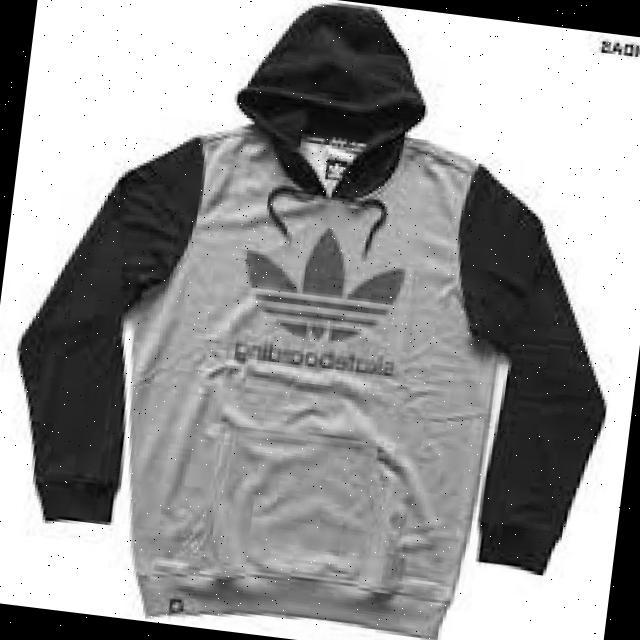Adidas: (226, 206, 430, 356), (315, 150, 353, 186)
